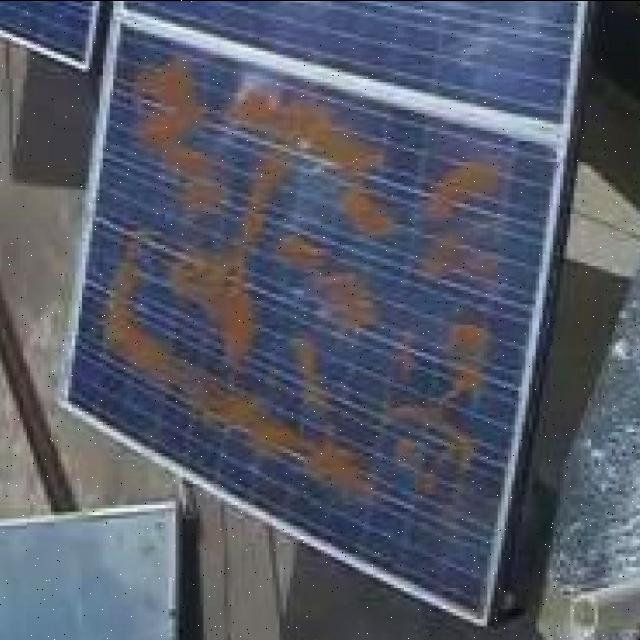Anomaly Solar Panel: (0, 23, 611, 622)
Snow: (432, 0, 552, 80), (271, 0, 336, 10)
Surface Contaminant: (66, 225, 423, 517), (148, 139, 289, 365), (112, 49, 246, 235), (369, 299, 494, 494), (220, 72, 391, 194), (264, 216, 390, 349), (413, 159, 515, 295), (327, 178, 409, 254)
